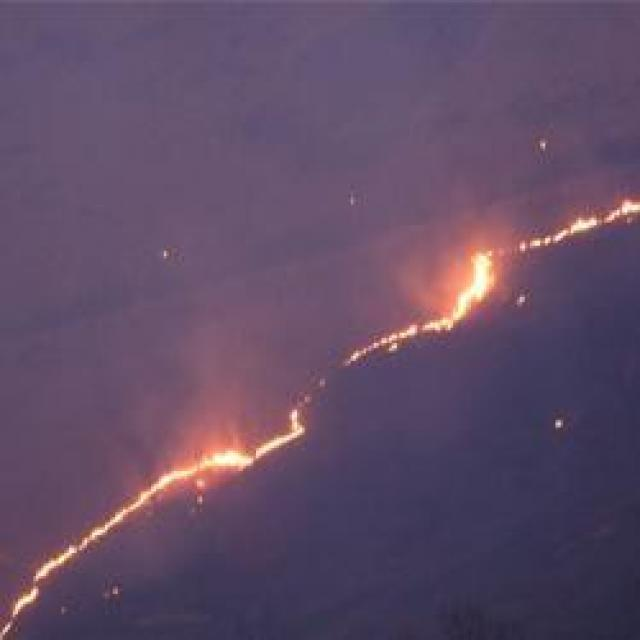Fire: (0, 368, 325, 640), (342, 221, 520, 385)
